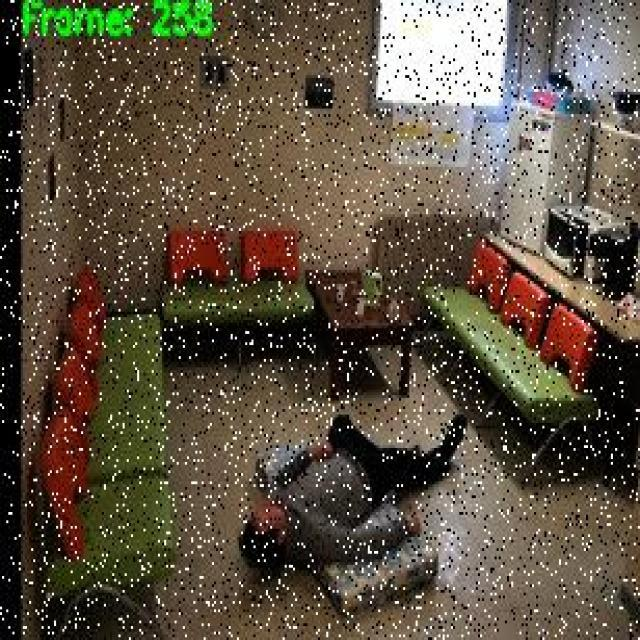fall: (242, 406, 469, 578)
